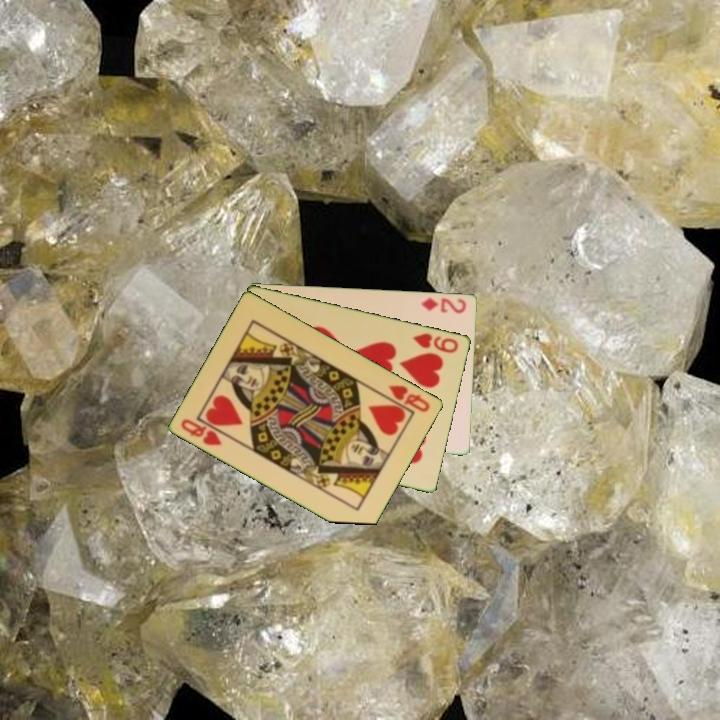2d: (418, 294, 469, 316)
9h: (410, 329, 462, 356)
Qh: (385, 381, 433, 415), (178, 415, 225, 448)
